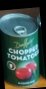tomatoes: (1, 13, 42, 88)
